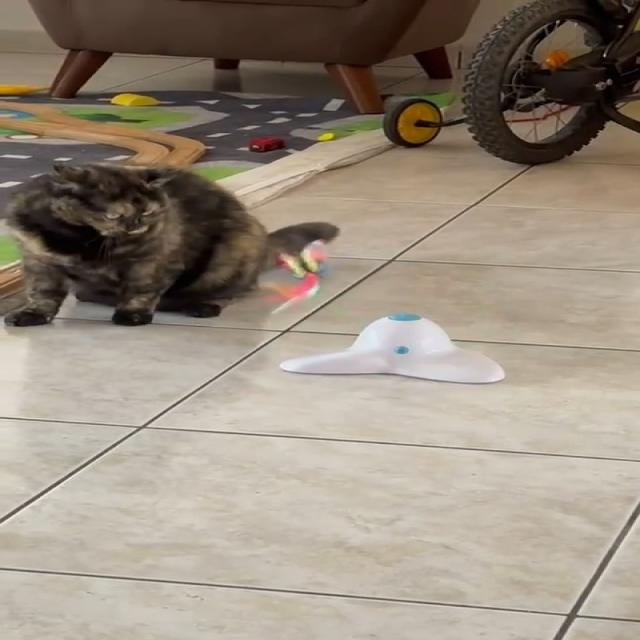authorized: (2, 161, 338, 327)
